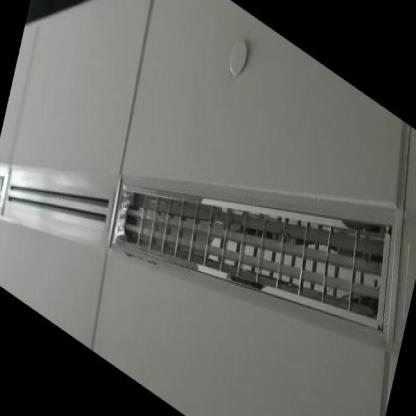light_off: (102, 18, 412, 415), (0, 140, 28, 254)
